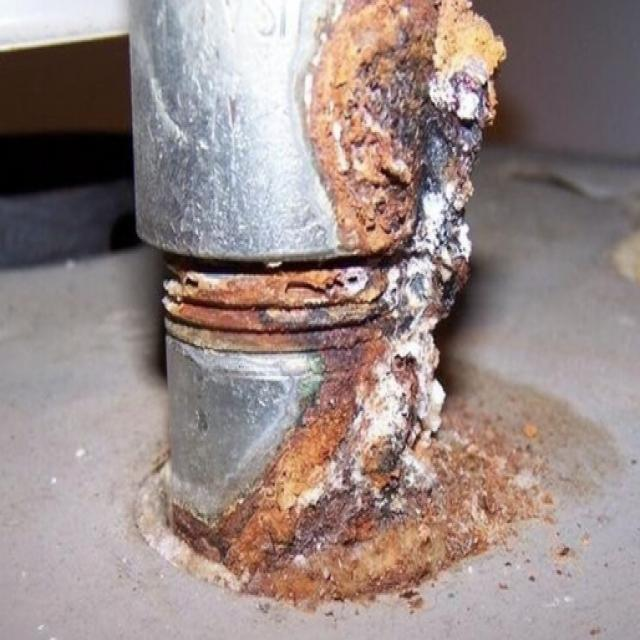Corrosion: (123, 0, 551, 606)
